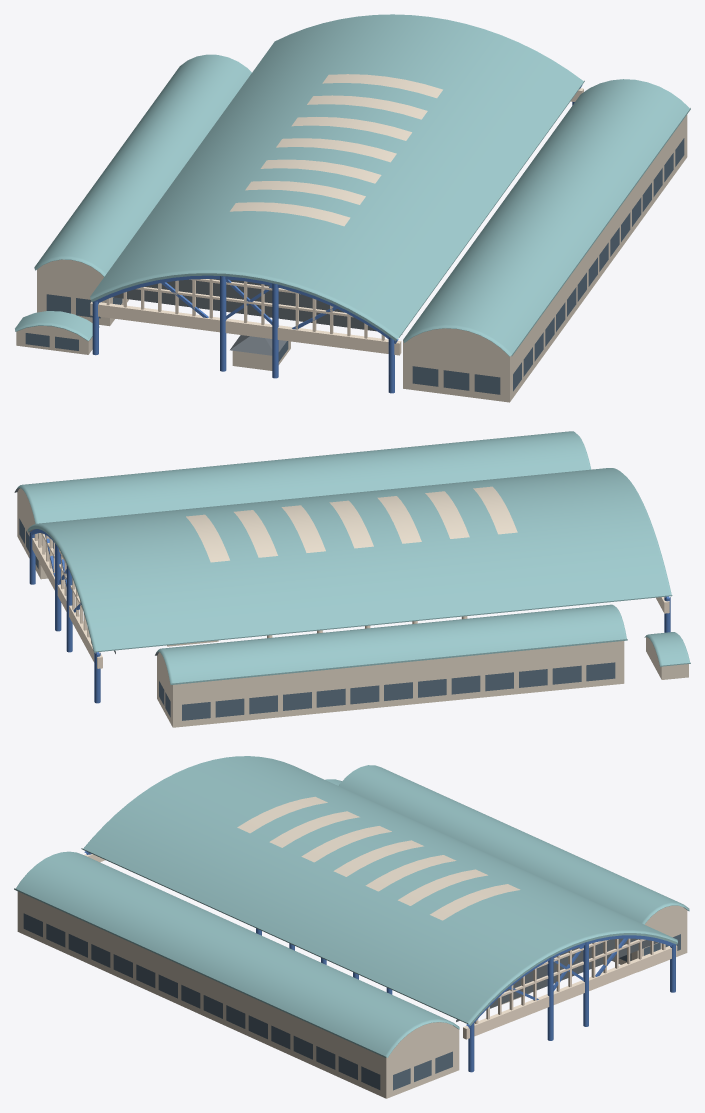
The model's file is detail.glb.
3 renders of one model, top to bottom at view 1: azimuth 30°, elevation 25°; view 2: azimuth 150°, elevation 25°; view 3: azimuth 270°, elevation 25°, orthographic. The views are drawn at different scales.
Parts seen in each view (by area): view 1: charlotte-transportation-center; view 2: charlotte-transportation-center; view 3: charlotte-transportation-center.
Part boxes in pixels (left/top/right/bottom): charlotte-transportation-center: left=15, top=14, right=690, bottom=402; charlotte-transportation-center: left=14, top=431, right=690, bottom=727; charlotte-transportation-center: left=14, top=756, right=689, bottom=1098.
Size of the model in its own units: 135 by 18.76 by 127.
